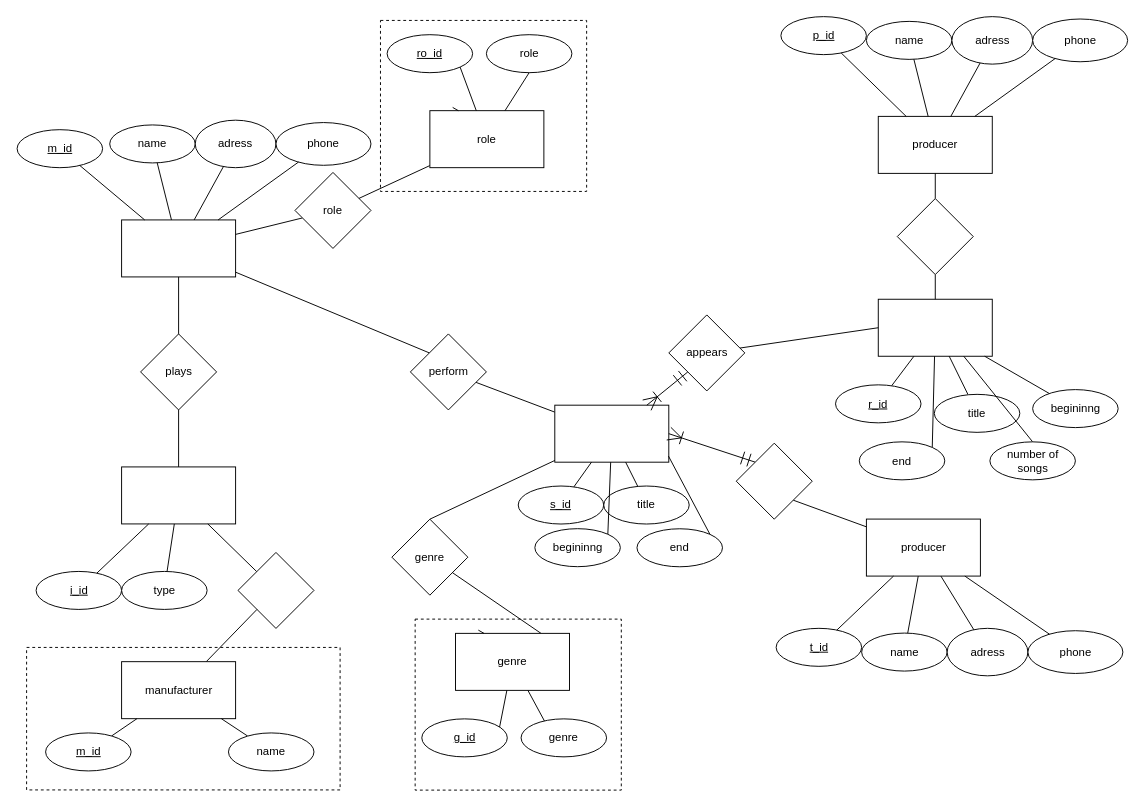
Some shapes in this 1144 by 808 pixel diagram are drawn without their labels. The shapes that lost their labels are listed below. From the top down, each one's centre as x and y in pixels, then its label:
At (x=178, y=248): "musicians".
At (x=934, y=236): "produced".
At (x=934, y=327): "record".
At (x=611, y=433): "songs".
At (x=178, y=495): "instrument".
At (x=275, y=589): "has".
